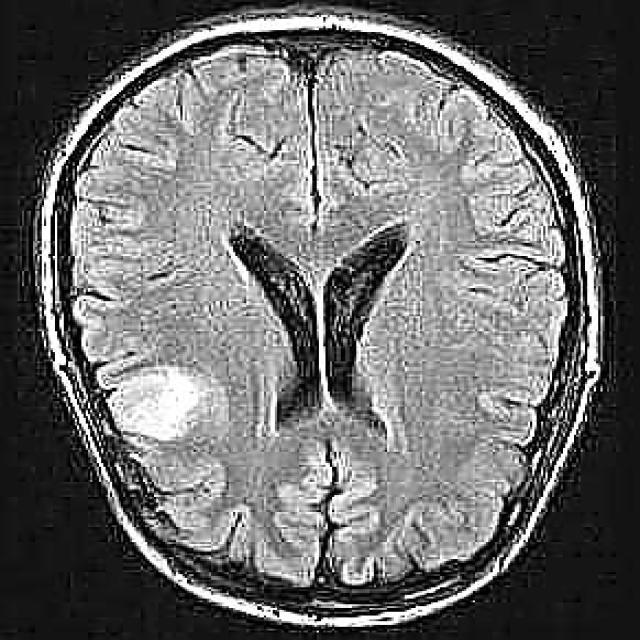Tumor-Cell: (98, 345, 204, 450)
